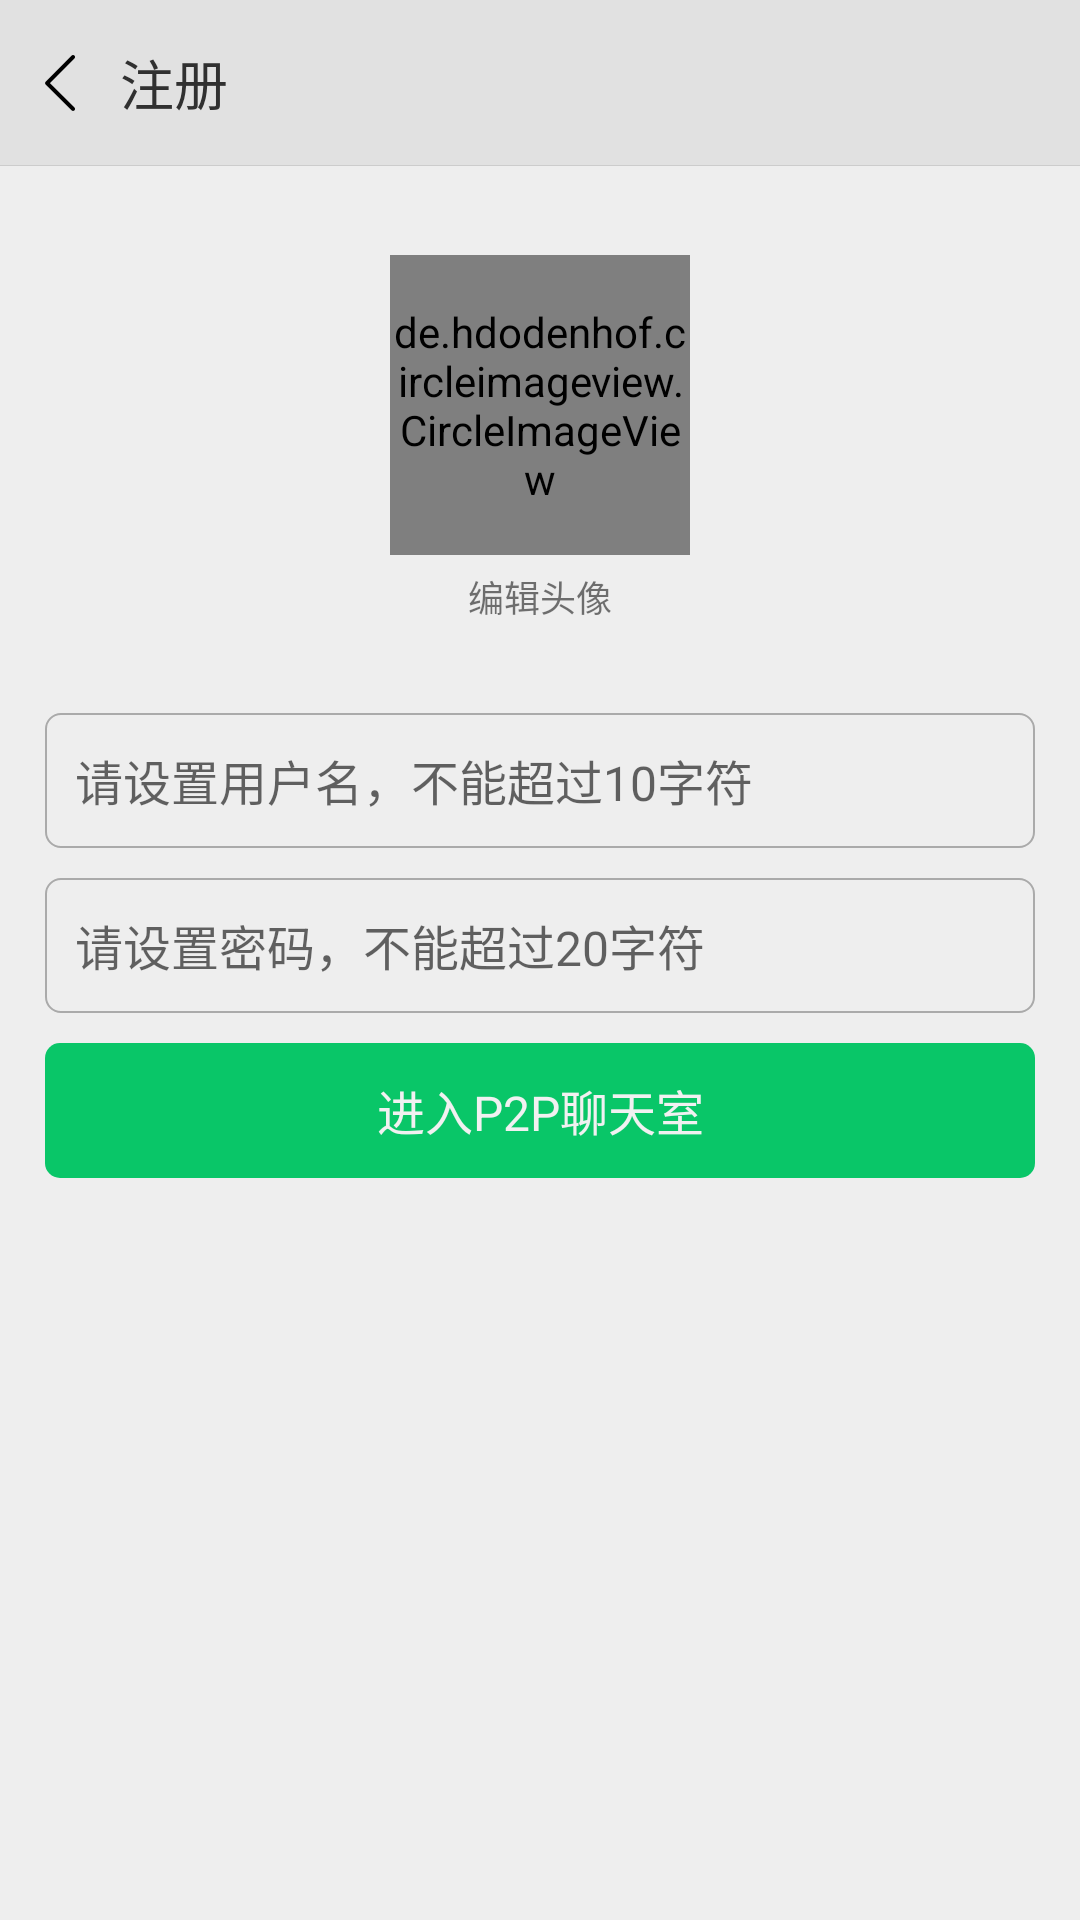

Screen size 1080×1920. Icon name, then its box in pixels as (x1, y1, x2, y2):
back: (45, 55, 75, 111)
